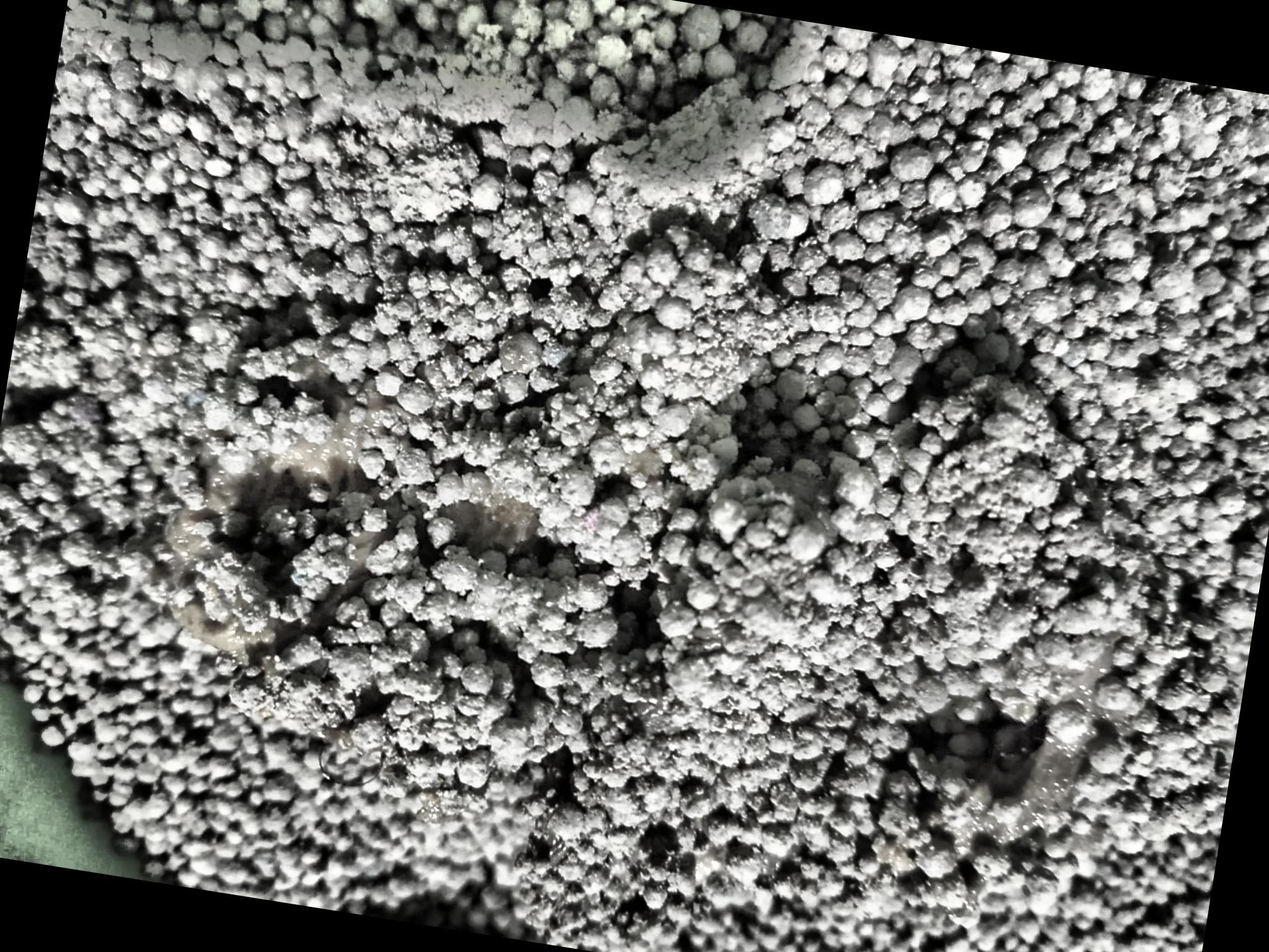poop: (144, 238, 1144, 948)
